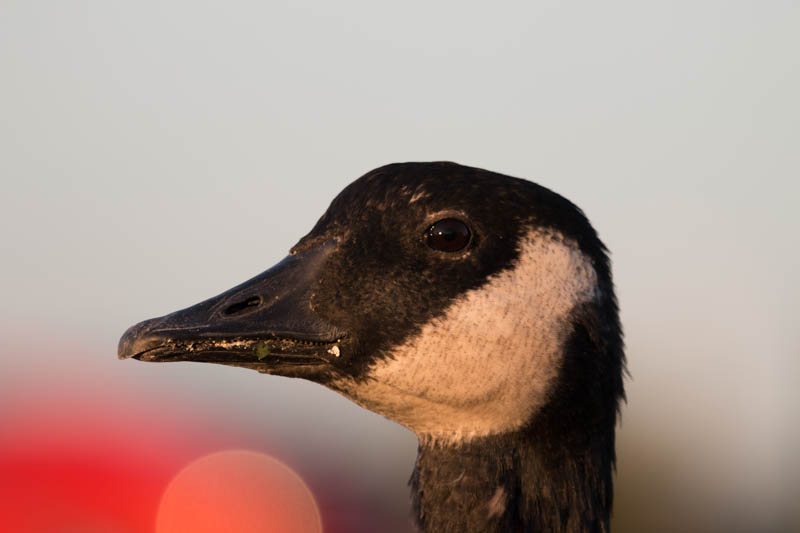goose-head: (117, 158, 625, 449)
